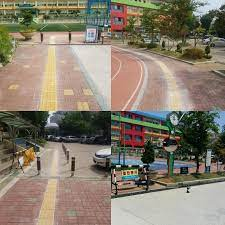guide_blocks: (34, 178, 59, 225), (43, 34, 56, 110)
